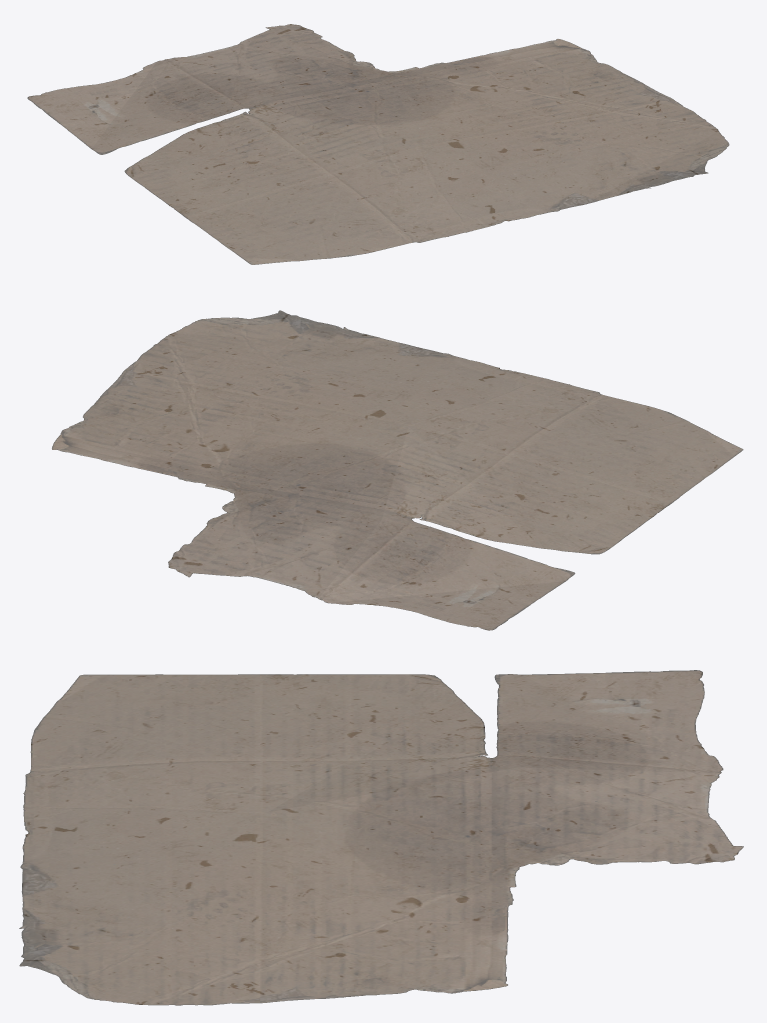
Rendered from SM_Cardboard_Flat03.glb.
3 renders of one model, top to bottom at view 1: azimuth 30°, elevation 25°; view 2: azimuth 150°, elevation 25°; view 3: azimuth 270°, elevation 25°, orthographic. The views are drawn at different scales.
Visible parts, largest first — view 1: SM_Cardboard_Flat03; view 2: SM_Cardboard_Flat03; view 3: SM_Cardboard_Flat03.
Part boxes in pixels (<box>): SM_Cardboard_Flat03: <box>27,24,729,264</box>; SM_Cardboard_Flat03: <box>52,310,743,630</box>; SM_Cardboard_Flat03: <box>19,670,743,1005</box>.
Size of the model in its own units: 0.5204 by 0.0135 by 0.4802.
Materials: 1 (1 with a texture image).
